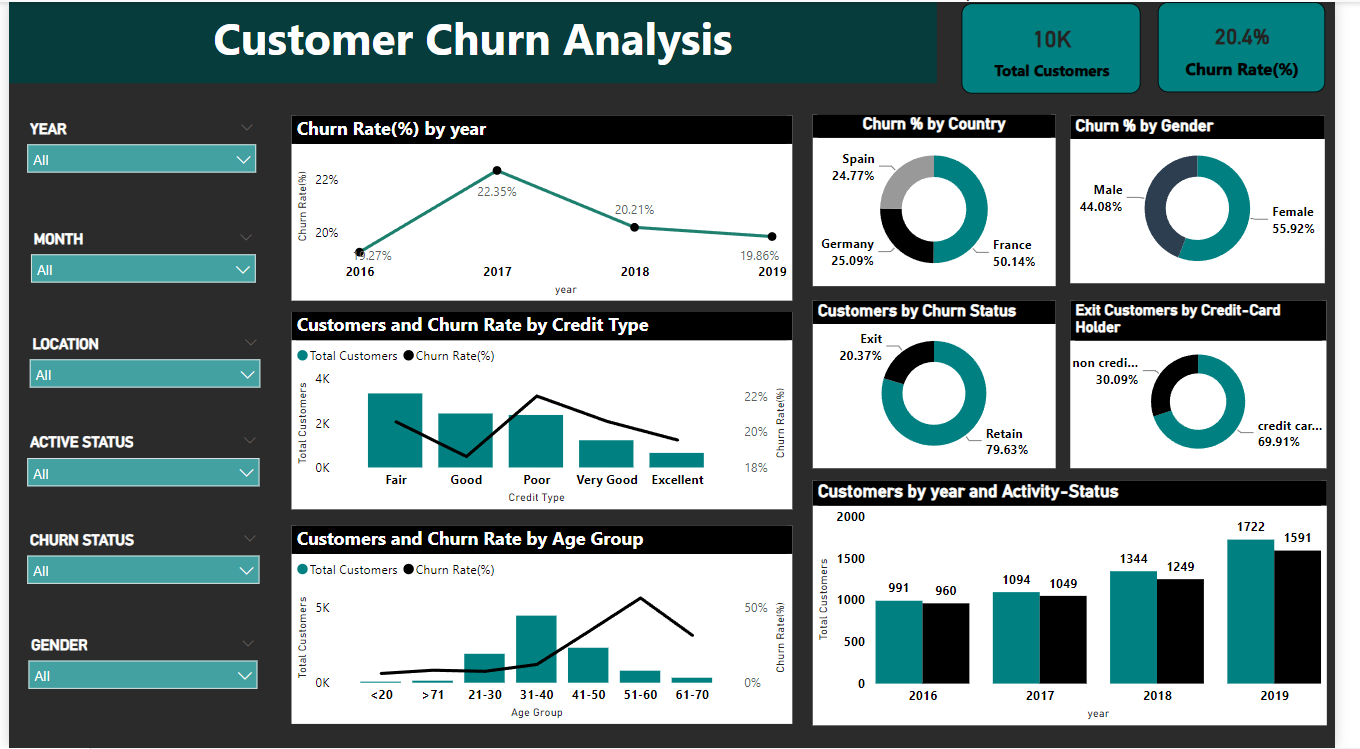

The page's visual inventory and layout, read from the dashboard file:
{"tool":"powerbi","page":{"name":"Home  Page","canvas":[1280,720],"ordinal":0},"visuals":[{"type":"card","fields":{"Values":["Calculations.Total Customer"]},"box":[918.6,1.4,172.9,87.1],"z":0},{"type":"textbox","box":[0,0,895,78.8],"z":1000},{"type":"card","fields":{"Values":["Calculations.Churn %"]},"box":[1108.6,0,161.4,87.1],"z":2000},{"type":"slicer","fields":{"Values":["DateMaster.year"]},"box":[7.1,108.6,241.4,78.6],"z":3000},{"type":"slicer","fields":{"Values":["DateMaster.month_name"]},"box":[11.4,214.3,237.1,74.3],"z":4000},{"type":"slicer","fields":{"Values":["Geography.GeographyLocation"]},"box":[10,315.7,242.9,74.3],"z":5000},{"type":"slicer","fields":{"Values":["ActiveCustomer.ActiveCategory"]},"box":[7.1,411.4,244.3,77.1],"z":6000},{"type":"slicer","fields":{"Values":["ExitCustomer.ExitCategory"]},"box":[7.1,505.7,244.3,85.7],"z":7000},{"type":"slicer","fields":{"Values":["Gender.GenderCategory"]},"box":[8.6,607.1,241.4,90],"z":8000},{"type":"clusteredColumnChart","title":"Customers by year and Activity-Status","fields":{"Y":["Calculations.Total Customers"],"Category":["DateMaster.year","DateMaster.month_name"],"Series":["ActiveCustomer.ActiveCategory"]},"box":[775.7,461.4,495.7,235.7],"z":9000},{"type":"donutChart","title":"Churn % by Gender","fields":{"Y":["Calculations.Exit Customers"],"Category":["Gender.GenderCategory"]},"box":[1024.3,110,245.7,161.4],"z":10000},{"type":"donutChart","title":"Exit Customers by Credit-Card Holder","fields":{"Y":["Calculations.Exit Customers"],"Category":["CreditCard.Category"]},"box":[1024.3,288.6,247.1,161.4],"z":11000},{"type":"donutChart","title":"Customers by Churn Status","fields":{"Y":["Calculations.Total Customers"],"Category":["ExitCustomer.ExitCategory"]},"box":[775.7,288.6,234.3,161.4],"z":12000},{"type":"donutChart","title":"Churn % by Country","fields":{"Y":["Calculations.Total Customers"],"Category":["Geography.GeographyLocation"]},"box":[775.7,108.6,234.3,165.7],"z":13000},{"type":"lineStackedColumnComboChart","title":"Customers and Churn Rate by Credit Type","fields":{"Y2":["Calculations.Churn %"],"Y":["Calculations.Total Customers"],"Category":["Bank_Churn.Credit Type"]},"box":[272.9,298.6,482.9,190],"z":14000},{"type":"lineStackedColumnComboChart","title":"Customers and Churn Rate by Age Group","fields":{"Category":["Bank_Churn.Age Group"],"Y":["Calculations.Total Customers"],"Y2":["Calculations.Churn %"]},"box":[272.9,505.7,482.9,191.4],"z":15000},{"type":"lineChart","fields":{"Category":["DateMaster.year"],"Y":["Calculations.Churn Rate(%)"]},"box":[272.9,110,482.9,178.6],"z":16000}]}

Visuals, with their boxes in screenshot pixels (x1, y1, x2, y2), scaled from the page's 1280x720 canvas onto the 1360x749 screenshot:
card - Calculations.Total Customer: rect(976, 1, 1160, 92)
textbox: rect(0, 0, 951, 82)
card - Calculations.Churn %: rect(1178, 0, 1349, 91)
slicer - DateMaster.year: rect(8, 113, 264, 195)
slicer - DateMaster.month_name: rect(12, 223, 264, 300)
slicer - Geography.GeographyLocation: rect(11, 328, 269, 406)
slicer - ActiveCustomer.ActiveCategory: rect(8, 428, 267, 508)
slicer - ExitCustomer.ExitCategory: rect(8, 526, 267, 615)
slicer - Gender.GenderCategory: rect(9, 632, 266, 725)
"Customers by year and Activity-Status" clusteredColumnChart: rect(824, 480, 1351, 725)
"Churn % by Gender" donutChart: rect(1088, 114, 1349, 282)
"Exit Customers by Credit-Card Holder" donutChart: rect(1088, 300, 1351, 468)
"Customers by Churn Status" donutChart: rect(824, 300, 1073, 468)
"Churn % by Country" donutChart: rect(824, 113, 1073, 285)
"Customers and Churn Rate by Credit Type" lineStackedColumnComboChart: rect(290, 311, 803, 508)
"Customers and Churn Rate by Age Group" lineStackedColumnComboChart: rect(290, 526, 803, 725)
lineChart - DateMaster.year x Calculations.Churn Rate(%): rect(290, 114, 803, 300)
